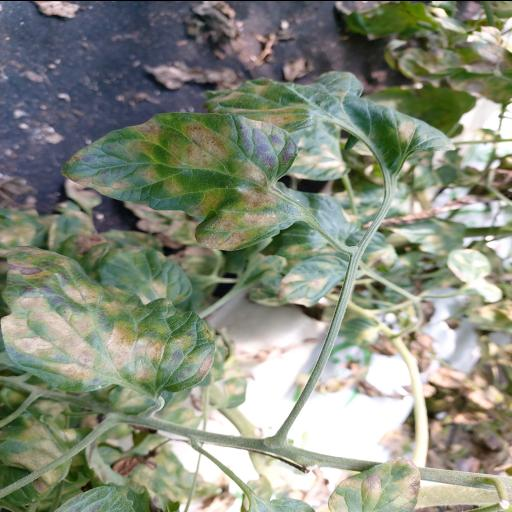disease_tomato: (60, 112, 298, 250), (0, 244, 216, 392)
